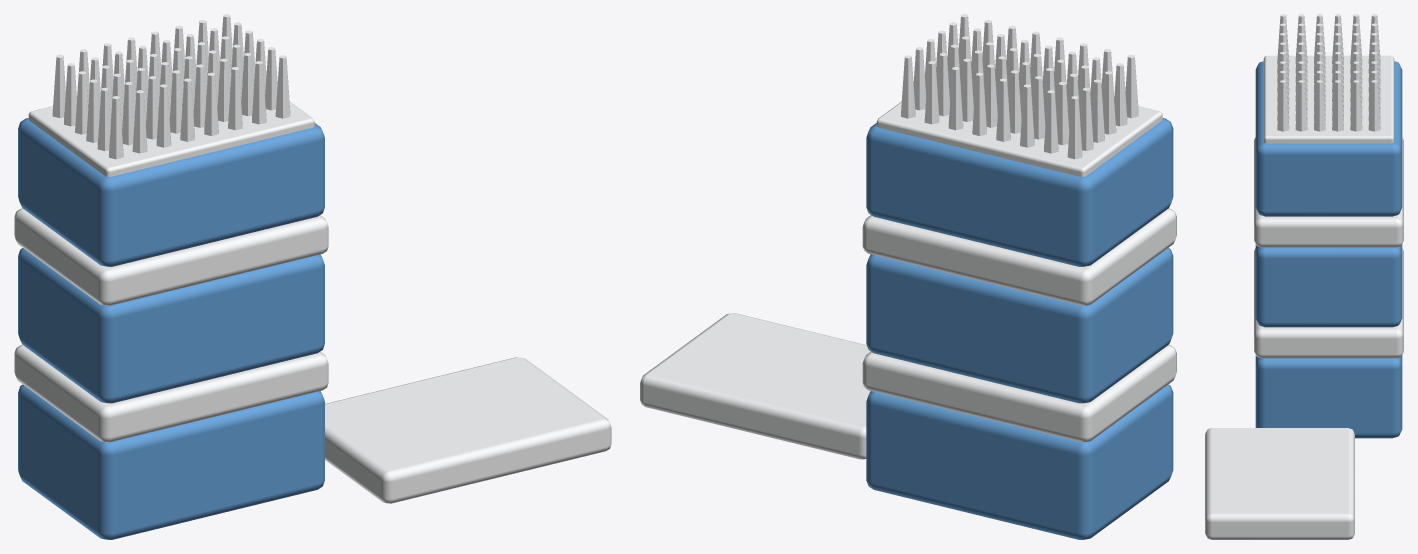
Rendered from tip-box-stack.glb.
3 renders of one model, left to right at view 1: azimuth 30°, elevation 25°; view 2: azimuth 150°, elevation 25°; view 3: azimuth 270°, elevation 25°, orthographic. The views are drawn at different scales.
Parts seen in each view (by area): view 1: tip-box-stack; view 2: tip-box-stack; view 3: tip-box-stack.
Part boxes in pixels (<box>): tip-box-stack: <box>14,14,611,539</box>; tip-box-stack: <box>640,14,1176,539</box>; tip-box-stack: <box>1205,14,1403,539</box>.
Bounding box in the file's own units: 0.277 × 0.236 × 0.122.
